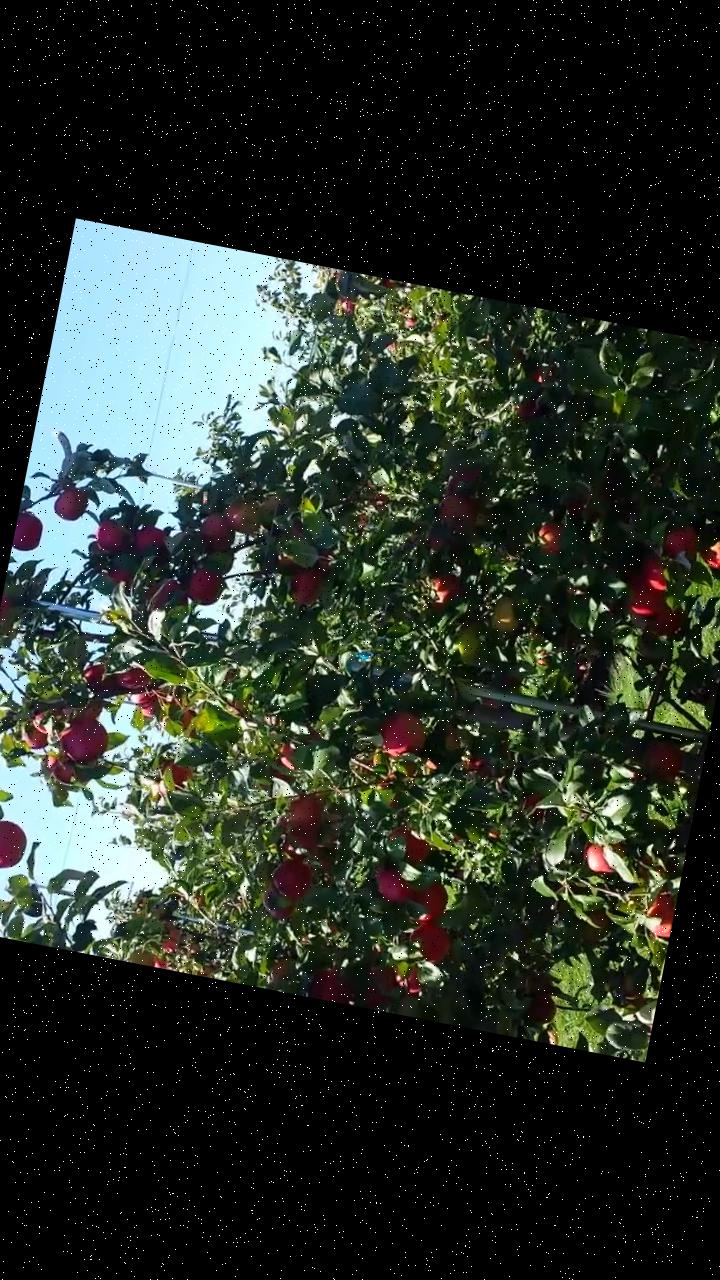Apple: (372, 704, 434, 764), (271, 718, 327, 776), (55, 710, 114, 764), (400, 868, 452, 928), (378, 819, 436, 867), (461, 736, 516, 784), (125, 518, 173, 572), (181, 558, 230, 610), (138, 568, 186, 618), (267, 852, 314, 901), (578, 831, 627, 878), (154, 752, 200, 802), (404, 918, 454, 964), (431, 488, 480, 534), (620, 573, 667, 620), (218, 490, 264, 538), (283, 558, 329, 606), (366, 862, 418, 904), (193, 508, 238, 556), (48, 478, 91, 528), (484, 592, 528, 640), (657, 518, 702, 564), (38, 745, 86, 788), (426, 562, 468, 610), (637, 890, 676, 941), (0, 811, 31, 874), (356, 963, 400, 1007), (640, 739, 684, 780), (10, 508, 46, 558), (256, 881, 298, 922), (643, 600, 682, 644), (306, 964, 350, 1002), (282, 788, 324, 827), (110, 658, 156, 693), (637, 550, 672, 596), (26, 698, 66, 738), (88, 516, 129, 553), (386, 959, 427, 996), (441, 456, 483, 492), (12, 717, 52, 752), (130, 685, 165, 724), (80, 656, 116, 693), (100, 559, 137, 595), (526, 990, 560, 1029), (58, 695, 100, 726), (534, 514, 566, 554), (511, 385, 544, 422), (278, 820, 318, 850), (253, 488, 285, 525), (425, 528, 464, 558), (516, 791, 548, 826), (176, 704, 204, 739), (698, 529, 719, 575), (157, 922, 184, 954), (582, 908, 613, 935), (437, 720, 463, 751), (524, 360, 555, 386), (615, 968, 637, 1001), (266, 956, 288, 982), (312, 546, 332, 572), (0, 589, 13, 628), (422, 755, 438, 772)
